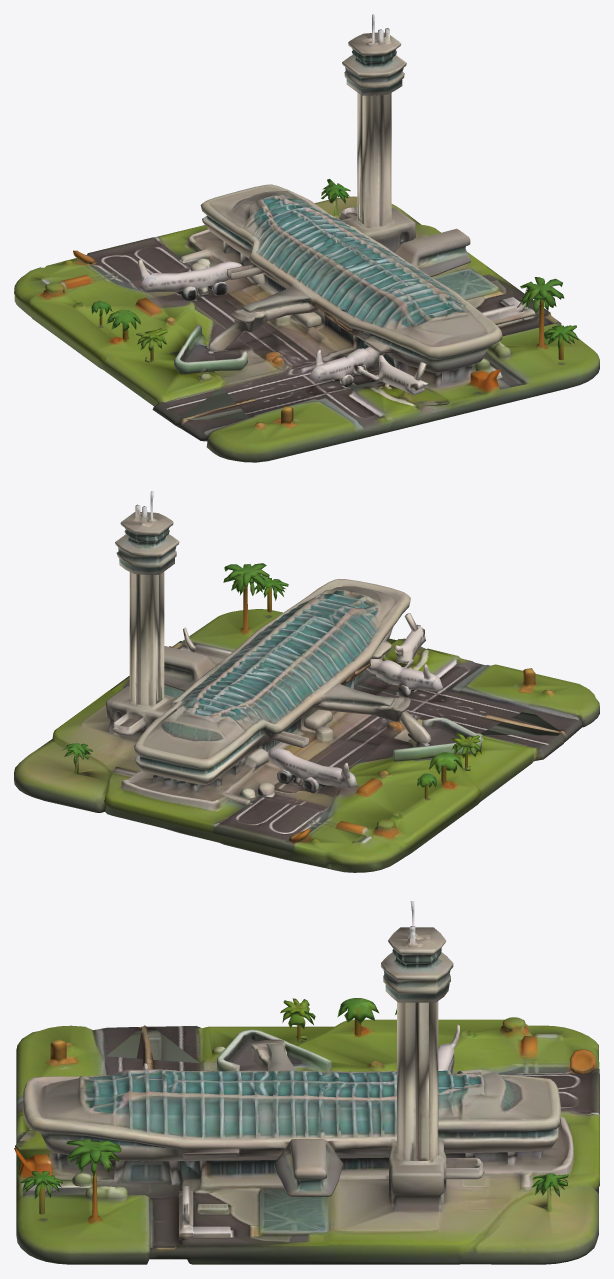
File: bangkok.glb
The picture shows the model from 3 angles, top to bottom: view 1: azimuth 30°, elevation 25°; view 2: azimuth 150°, elevation 25°; view 3: azimuth 270°, elevation 25°; orthographic projection. The views are drawn at different scales.
Visible parts, largest first — view 1: tripo_node_1159c3d0-244c-4e37-8469-522e64bdc810; view 2: tripo_node_1159c3d0-244c-4e37-8469-522e64bdc810; view 3: tripo_node_1159c3d0-244c-4e37-8469-522e64bdc810.
Part boxes in pixels (x1=…): tripo_node_1159c3d0-244c-4e37-8469-522e64bdc810: x1=14, y1=14, x2=599, y2=462; tripo_node_1159c3d0-244c-4e37-8469-522e64bdc810: x1=14, y1=491, x2=599, y2=872; tripo_node_1159c3d0-244c-4e37-8469-522e64bdc810: x1=14, y1=901, x2=599, y2=1264.
Size of the model in its own units: 0.9025 by 0.5844 by 0.9791.
1 material, 1 textured.
